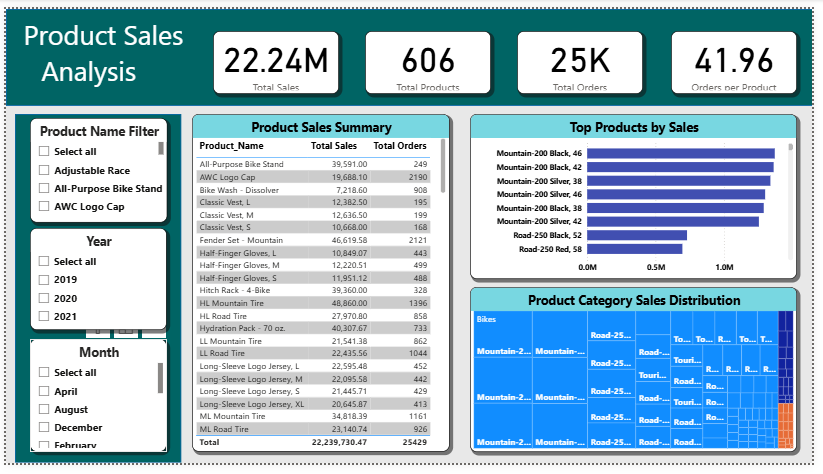

What the dashboard file says about the page in this screenshot:
{"tool":"powerbi","page":{"name":"Product Sales Dashboard","canvas":[1280,720],"ordinal":2},"visuals":[{"type":"shape","title":"Background 1","box":[13.8,167.2,263.8,553.4],"z":1000,"group":"g1"},{"type":"shape","title":"Background 2","box":[0,0,1280.4,153.6],"z":2000,"group":"g1"},{"type":"group","id":"g1","title":"Group 1","box":[0,0,1280.4,720.7],"z":2500},{"type":"textbox","title":"Title","box":[14.4,5.8,280.8,131],"z":3000},{"type":"card","title":"Card 4","fields":{"Values":["DIM_Product.Orders per Product"]},"box":[1055.4,35.7,200,100],"z":4000},{"type":"tableEx","title":"Product Sales Summary","fields":{"Values":["DIM_Product.Product_Name","FACT_InternetSales.Total Sales","FACT_InternetSales.Total Orders"]},"box":[294.8,167.2,408.6,536.2],"z":5000},{"type":"treemap","title":"Product Category Sales Distribution","fields":{"Group":["DIM_Product.Product_Category"],"Values":["FACT_InternetSales.Total Sales"],"Details":["DIM_Product.Product_Name"]},"box":[736.2,441.4,519,262.1],"z":6000},{"type":"slicer","title":"Product Name Filter","fields":{"Values":["DIM_Product.Product_Name"]},"box":[37.5,173.2,217.9,166.1],"z":7000},{"type":"slicer","title":"Month","fields":{"Values":["DIM_Calendar.Month"]},"box":[37.9,524.1,217.2,179.3],"z":8000},{"type":"card","title":"Card 1","fields":{"Values":["FACT_InternetSales.Total Sales"]},"box":[328.6,35.7,200,100],"z":9000},{"type":"card","title":"Card 2","fields":{"Values":["DIM_Product.Total Products"]},"box":[569.6,35.7,200,100],"z":10000},{"type":"card","title":"Card 4","fields":{"Values":["FACT_InternetSales.Total Orders"]},"box":[810.7,35.7,200,100],"z":11000},{"type":"clusteredBarChart","title":"Top Products by Sales","fields":{"Y":["FACT_InternetSales.Total Sales"],"Category":["DIM_Product.Product_Name"]},"box":[736.2,167.2,519,262.1],"z":12000},{"type":"slicer","title":"Year","fields":{"Values":["DIM_Calendar.Year"]},"box":[37.9,348.3,217.2,162.1],"z":13000}]}

Visuals, with their boxes in screenshot pixels (x1, y1, x2, y2), scaled from the page's 1280x720 canvas onto the 823x474 screenshot:
"Background 1" shape: bbox=(9, 110, 178, 473)
"Background 2" shape: bbox=(0, 0, 822, 101)
"Group 1" group: bbox=(0, 0, 822, 473)
"Title" textbox: bbox=(9, 4, 190, 90)
"Card 4" card: bbox=(679, 24, 807, 89)
"Product Sales Summary" tableEx: bbox=(190, 110, 452, 463)
"Product Category Sales Distribution" treemap: bbox=(473, 291, 807, 463)
"Product Name Filter" slicer: bbox=(24, 114, 164, 223)
"Month" slicer: bbox=(24, 345, 164, 463)
"Card 1" card: bbox=(211, 24, 340, 89)
"Card 2" card: bbox=(366, 24, 495, 89)
"Card 4" card: bbox=(521, 24, 650, 89)
"Top Products by Sales" clusteredBarChart: bbox=(473, 110, 807, 283)
"Year" slicer: bbox=(24, 229, 164, 336)
